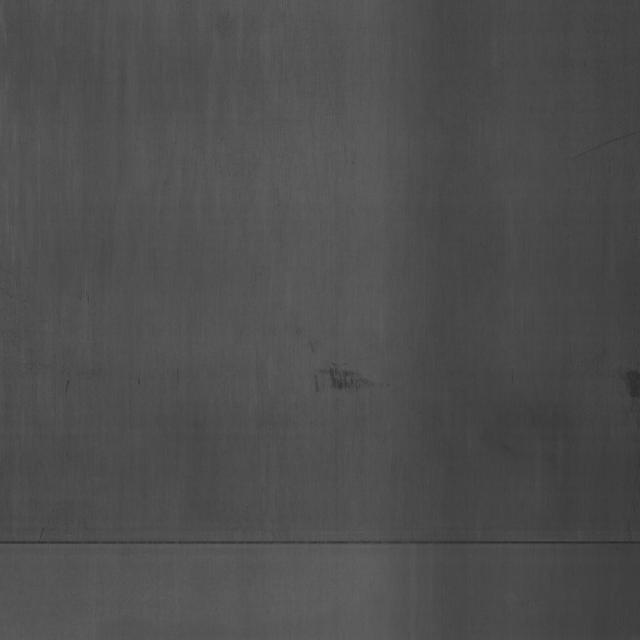crease: (0, 524, 640, 562)
welding_line: (306, 348, 381, 401), (624, 357, 640, 401)
